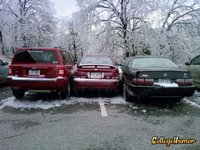car: (120, 56, 195, 101), (9, 46, 75, 97), (72, 53, 120, 94)
